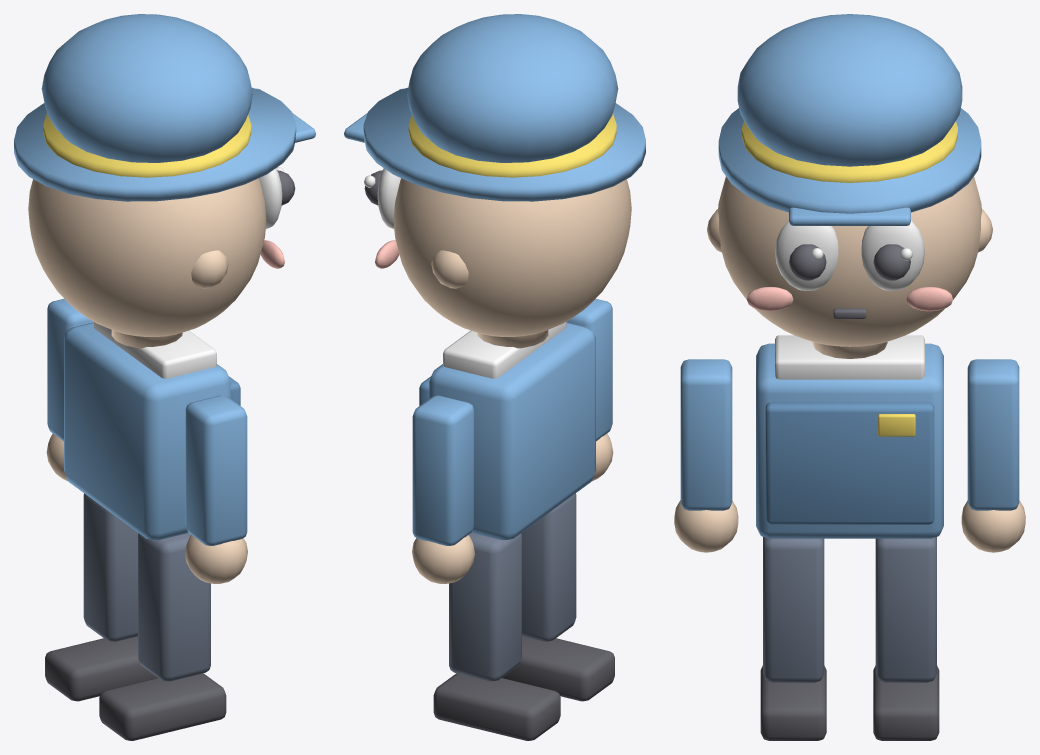
File: shop_clerk.glb
3 renders of one model, left to right at view 1: azimuth 30°, elevation 25°; view 2: azimuth 150°, elevation 25°; view 3: azimuth 270°, elevation 25°, orthographic. The views are drawn at different scales.
Parts seen in each view (by area): view 1: Head, Hat_Crown, Torso_Shirt, Hat_Brim, Leg_L, Arm_L, Leg_R, Shoe_L, Shoe_R, Hat_Band, Collar, Arm_R (+5 smaller); view 2: Head, Hat_Crown, Torso_Shirt, Hat_Brim, Leg_R, Arm_R, Leg_L, Shoe_R, Shoe_L, Hat_Band, Collar, Arm_L (+5 smaller); view 3: Hat_Crown, Vest, Head, Torso_Shirt, Hat_Brim, Leg_L, Leg_R, Arm_L, Arm_R, Collar, Hat_Band, Shoe_L (+12 smaller).
Boxes of the visible parts, box(x1,y1,x2,y2) form: Head: box(28, 178, 266, 336); Hat_Crown: box(41, 14, 252, 162); Torso_Shirt: box(64, 322, 230, 540); Hat_Brim: box(14, 87, 296, 201); Leg_L: box(138, 533, 210, 681); Arm_L: box(185, 395, 247, 545); Leg_R: box(83, 493, 138, 641); Shoe_L: box(99, 673, 226, 740); Shoe_R: box(45, 636, 157, 701); Hat_Band: box(43, 113, 251, 177); Collar: box(93, 321, 216, 378); Arm_R: box(47, 298, 93, 441); Head: box(393, 178, 631, 336); Hat_Crown: box(407, 14, 618, 162); Torso_Shirt: box(429, 322, 595, 540); Hat_Brim: box(363, 87, 645, 201); Leg_R: box(449, 533, 521, 681); Arm_R: box(412, 395, 474, 545); Leg_L: box(521, 493, 576, 641); Shoe_R: box(433, 673, 560, 740); Shoe_L: box(502, 636, 614, 701); Hat_Band: box(408, 113, 616, 177); Collar: box(443, 321, 566, 378); Arm_L: box(566, 298, 612, 441); Hat_Crown: box(737, 14, 962, 166); Vest: box(765, 402, 934, 524); Head: box(718, 176, 981, 346); Torso_Shirt: box(756, 343, 943, 538); Hat_Brim: box(718, 108, 981, 213); Leg_L: box(763, 537, 824, 682); Leg_R: box(875, 537, 936, 682); Arm_L: box(680, 359, 732, 510); Arm_R: box(967, 359, 1019, 510); Collar: box(775, 335, 924, 379); Hat_Band: box(742, 121, 957, 182); Shoe_L: box(760, 665, 826, 740).
Size of the model in its own units: 0.662 by 1.64 by 0.7485.
